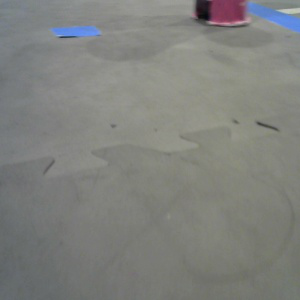right: (189, 1, 251, 26)
